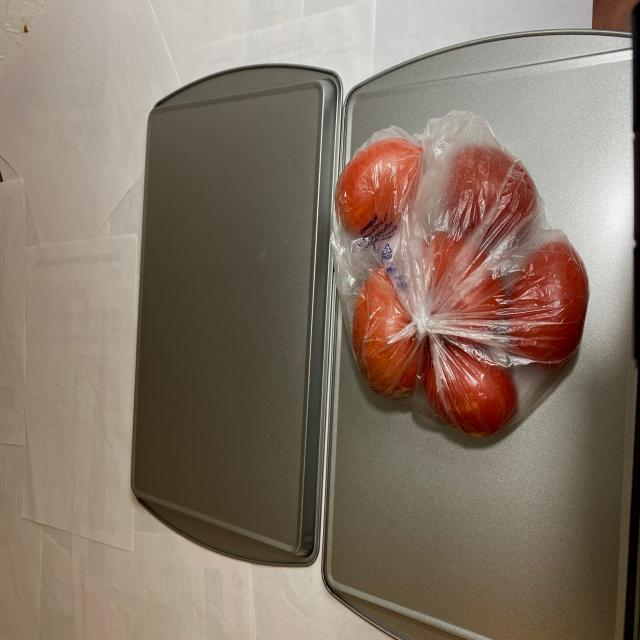tomato: (330, 138, 588, 428)
